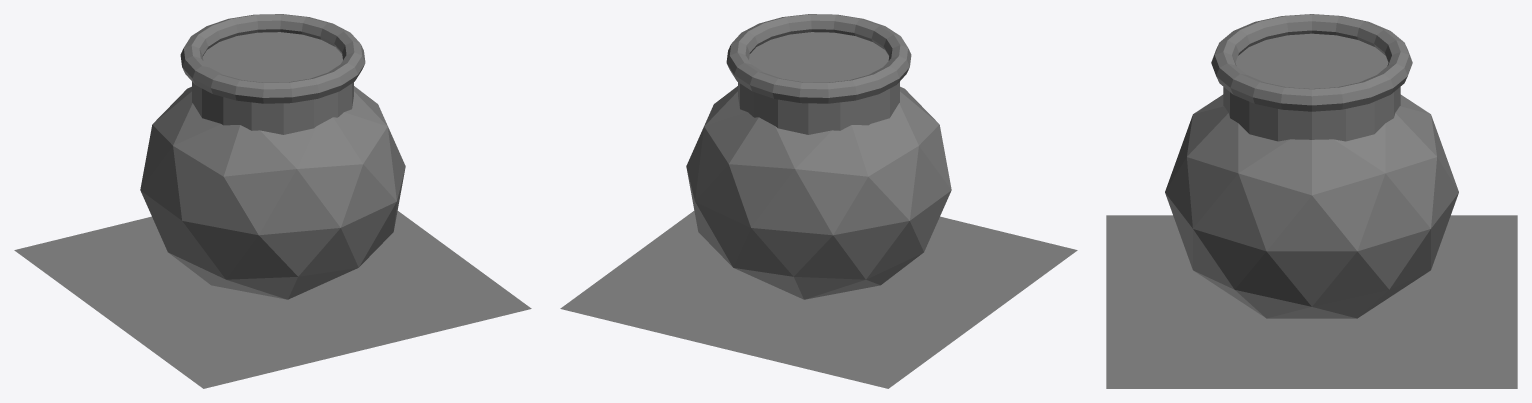
The model's file is pot-large.glb.
The picture shows the model from 3 angles, left to right: view 1: azimuth 30°, elevation 25°; view 2: azimuth 150°, elevation 25°; view 3: azimuth 270°, elevation 25°; orthographic projection. The views are drawn at different scales.
Visible parts, largest first — view 1: ContactShadow, belly, neck, rim; view 2: ContactShadow, belly, neck, rim; view 3: ContactShadow, belly, neck, rim.
Part boxes in pixels (left/top/right/bottom): ContactShadow: left=14, top=211, right=531, bottom=388; belly: left=140, top=86, right=405, bottom=299; neck: left=192, top=32, right=353, bottom=134; rim: left=180, top=14, right=365, bottom=103; ContactShadow: left=560, top=211, right=1077, bottom=388; belly: left=686, top=86, right=951, bottom=299; neck: left=738, top=32, right=899, bottom=134; rim: left=726, top=14, right=911, bottom=103; ContactShadow: left=1106, top=215, right=1517, bottom=388; belly: left=1165, top=94, right=1458, bottom=318; neck: left=1223, top=33, right=1400, bottom=141; rim: left=1211, top=14, right=1412, bottom=111.
Size of the model in its own units: 0.95 by 0.6572 by 0.95.
3 materials, 2 textured.
